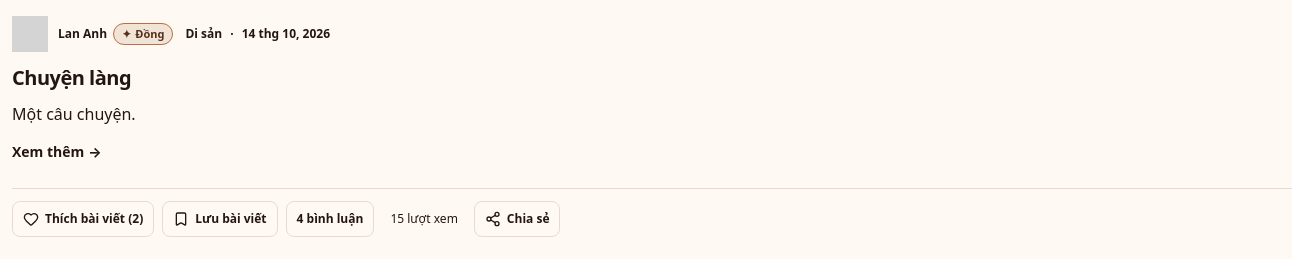
it: CommunityPostCard › shows the author profile link and engagement counts with quick actions
The width and height of the screenshot is (1292, 259).
Expected: the text "15 lượt xem" is shown, [390,210,458,226]
Expected: the link "4 bình luận" is shown, [286,200,374,236]
Click the button "Thích bài viết (2)" at (83, 218), box [12,200,154,236]
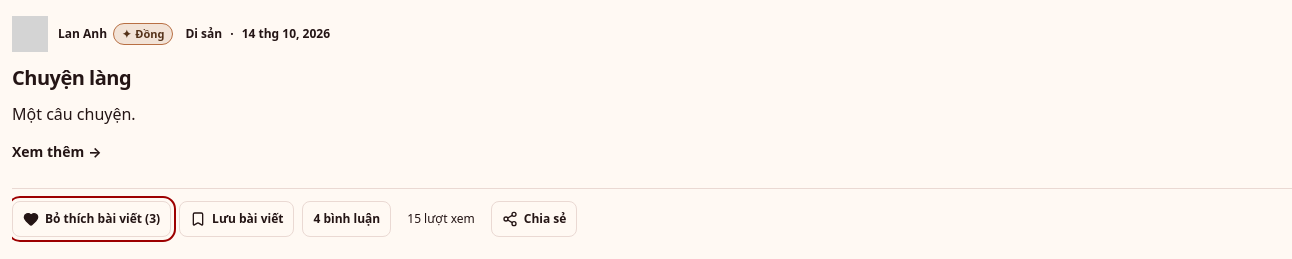
Result: the button "Bỏ thích bài viết (3)" is shown at [12,200,171,236]
